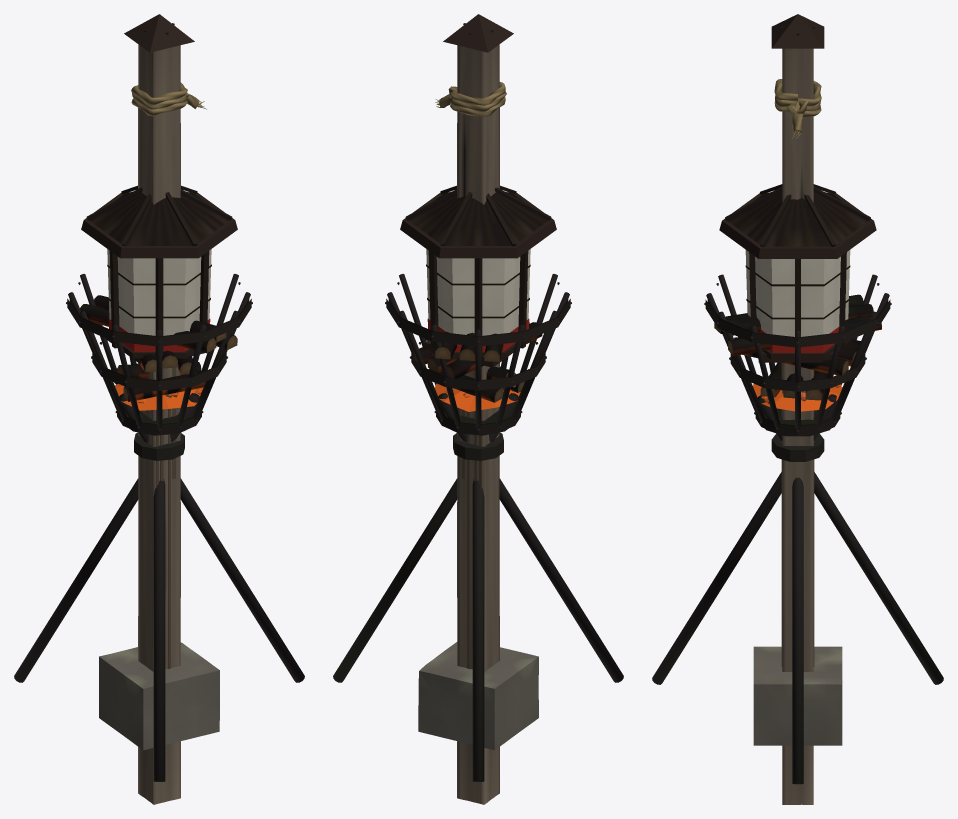
The model's file is lamps-ultra.glb.
3 views of the same model, side by side, from view 1: azimuth 30°, elevation 25°; view 2: azimuth 150°, elevation 25°; view 3: azimuth 270°, elevation 25° (orthographic).
Parts seen in each view (by area): view 1: bonbori_near, kagaribi_near, post_near; view 2: bonbori_near, kagaribi_near, post_near; view 3: bonbori_near, kagaribi_near, post_near.
Part boxes in pixels (x1=…): bonbori_near: x1=81, y1=185, x2=237, y2=750; kagaribi_near: x1=14, y1=274, x2=304, y2=781; post_near: x1=124, y1=14, x2=206, y2=804; bonbori_near: x1=400, y1=185, x2=556, y2=750; kagaribi_near: x1=333, y1=274, x2=623, y2=781; post_near: x1=435, y1=14, x2=513, y2=804; bonbori_near: x1=719, y1=184, x2=876, y2=745; kagaribi_near: x1=652, y1=274, x2=943, y2=784; post_near: x1=771, y1=14, x2=824, y2=804.
Size of the model in its own units: 0.9957 by 3.3 by 1.11.
